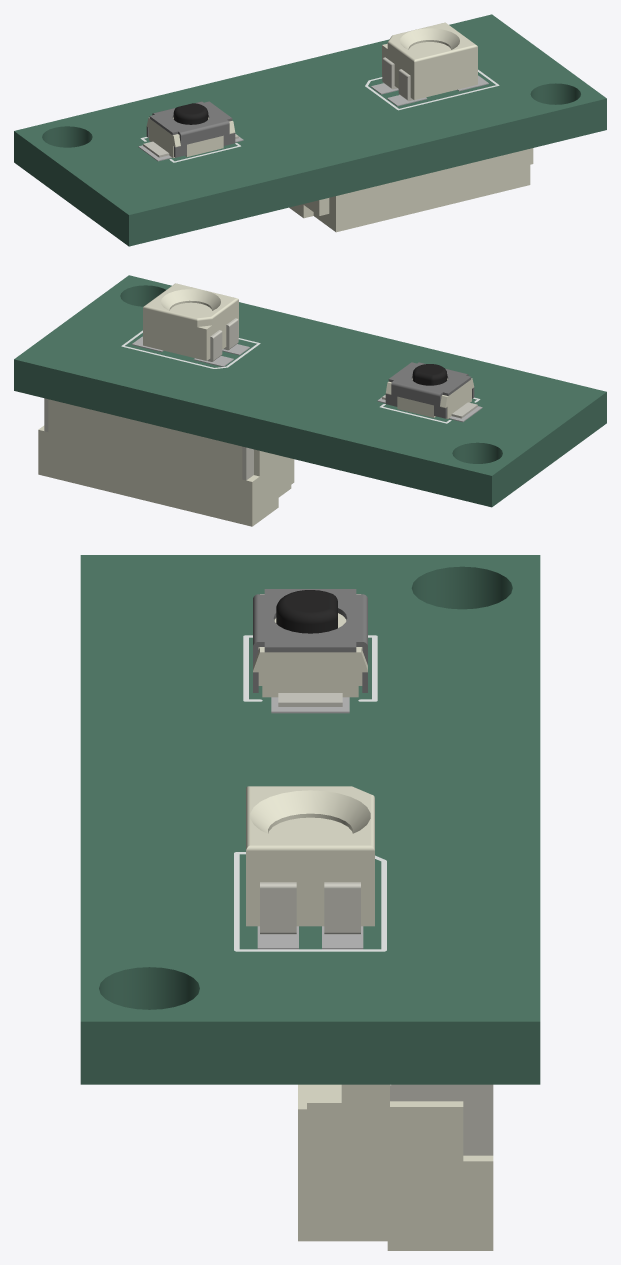
File: assembly.glb
The picture shows the model from 3 angles, top to bottom: view 1: azimuth 30°, elevation 25°; view 2: azimuth 150°, elevation 25°; view 3: azimuth 270°, elevation 25°; orthographic projection. The views are drawn at different scales.
Visible parts, largest first — view 1: =>[0:1:1:8], J1, D1, SW1, =>[0:1:1:5], =>[0:1:1:6]; view 2: =>[0:1:1:8], J1, D1, SW1, =>[0:1:1:5], =>[0:1:1:6]; view 3: =>[0:1:1:8], J1, D1, SW1, =>[0:1:1:6], =>[0:1:1:5].
Boxes of the visible parts, x1,y1,x2,y2 form: =>[0:1:1:8]: (14, 14, 606, 246); J1: (289, 148, 533, 232); D1: (382, 22, 477, 101); SW1: (143, 101, 238, 158); =>[0:1:1:5]: (138, 75, 488, 161); =>[0:1:1:6]: (140, 69, 499, 162); =>[0:1:1:8]: (14, 275, 606, 507); J1: (38, 398, 294, 526); D1: (143, 283, 238, 361); SW1: (382, 362, 477, 418); =>[0:1:1:5]: (132, 336, 482, 422); =>[0:1:1:6]: (121, 330, 480, 423); =>[0:1:1:8]: (80, 555, 540, 1084); J1: (298, 1084, 493, 1250); D1: (246, 786, 374, 934); SW1: (253, 589, 367, 706); =>[0:1:1:6]: (234, 635, 386, 951); =>[0:1:1:5]: (257, 697, 363, 949).
Size of the model in its own units: 0.024 by 0.00793 by 0.01.
